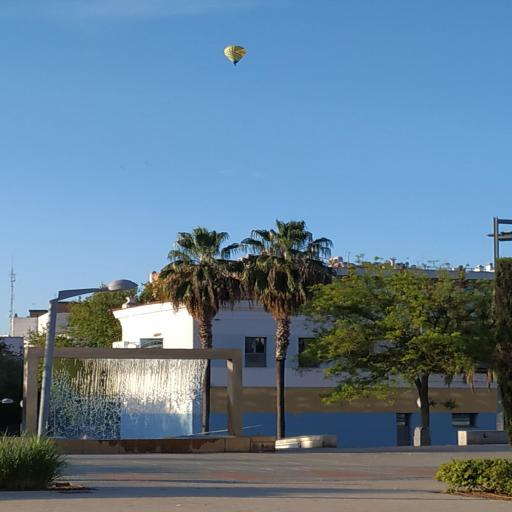hot air ballon: (223, 45, 246, 66)
